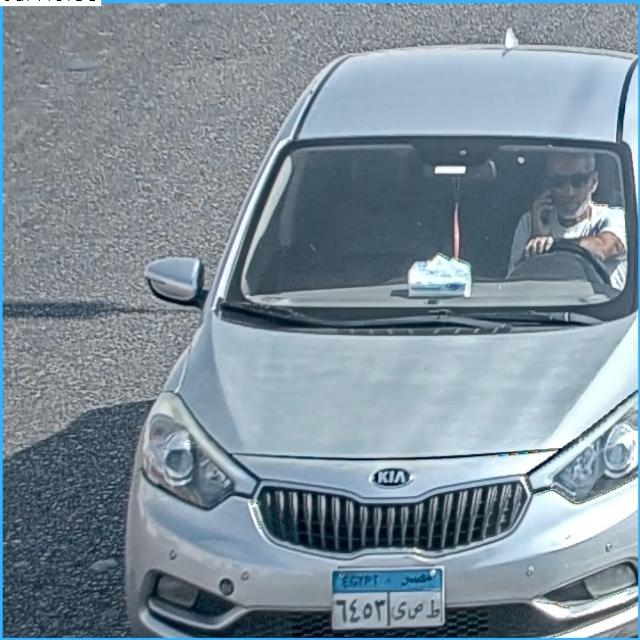windshield: (225, 140, 633, 316)
